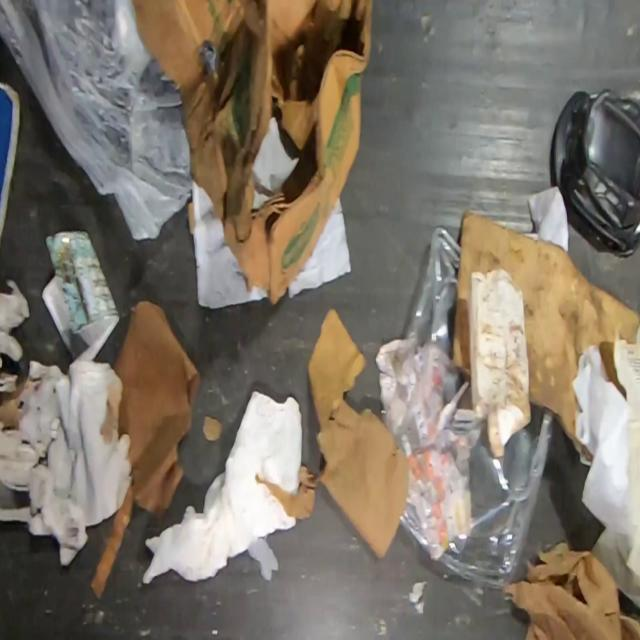cardboard: (131, 0, 376, 310), (0, 297, 200, 598), (452, 211, 640, 438), (254, 307, 410, 563), (0, 78, 23, 250)
rigid_plastic: (382, 226, 556, 593), (549, 86, 640, 259)
